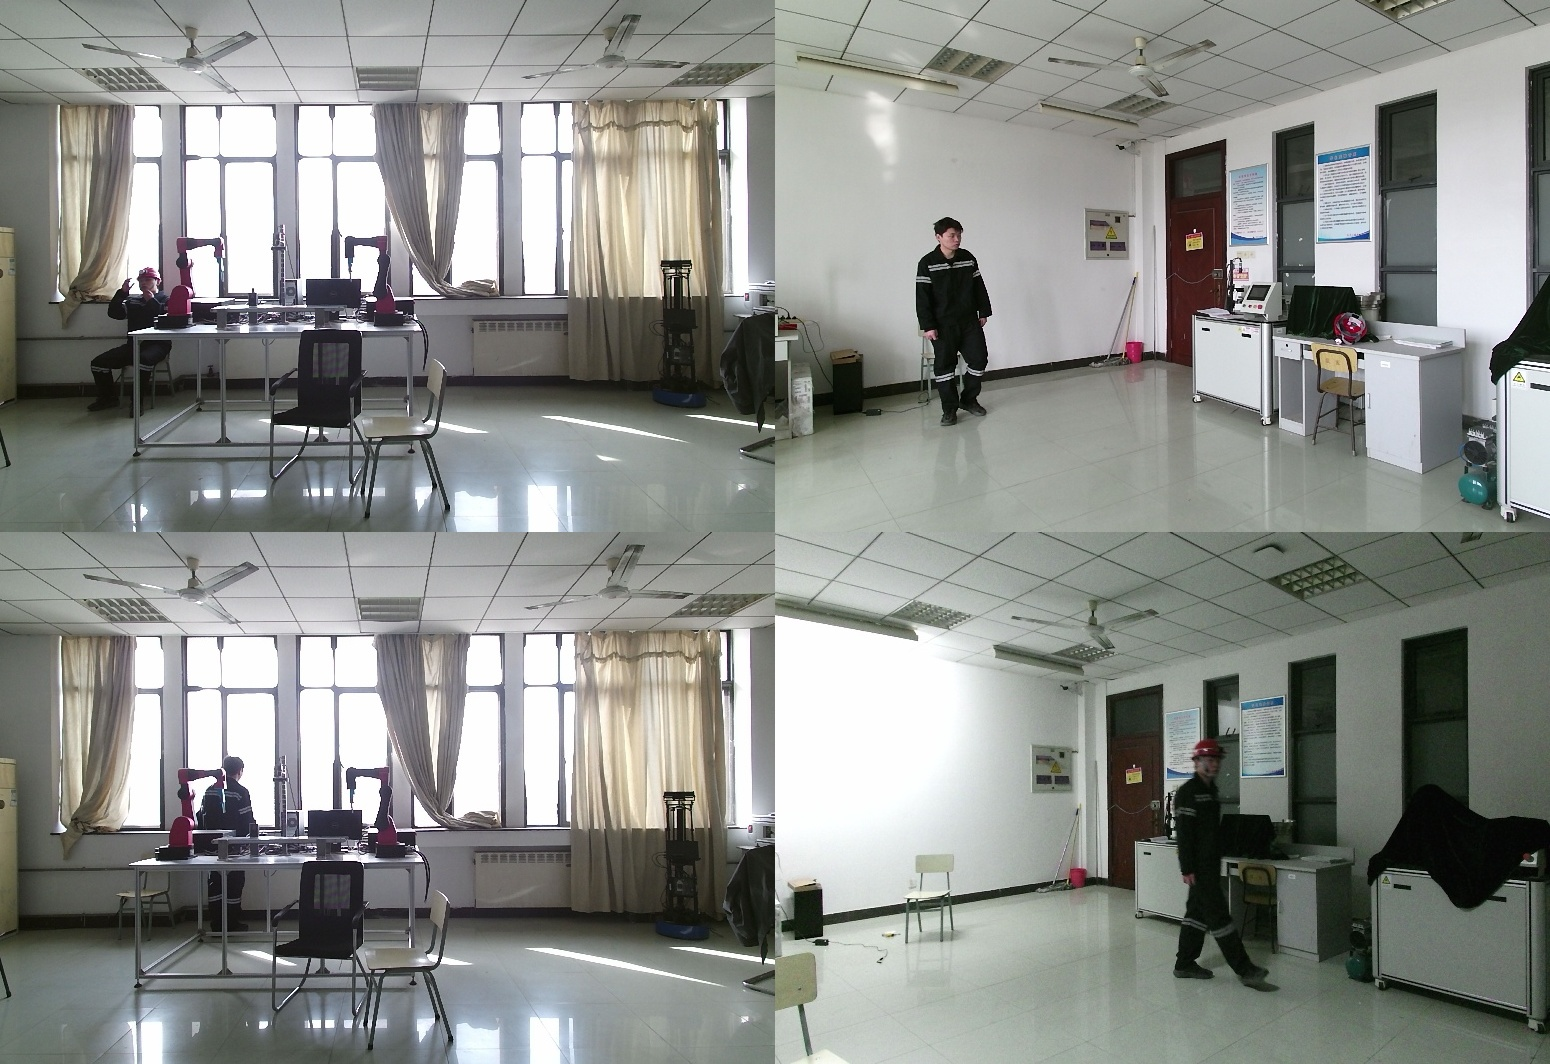person: (1165, 738, 1268, 988), (908, 217, 1002, 429), (83, 266, 172, 416), (198, 760, 254, 949)
